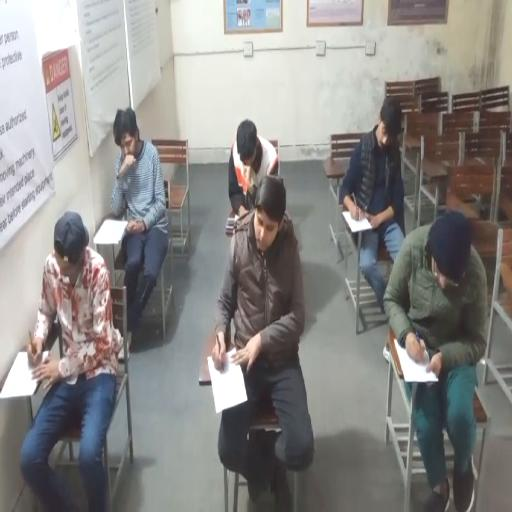paper: (0, 345, 48, 398), (206, 350, 246, 412), (94, 218, 128, 282), (393, 338, 439, 384), (342, 207, 376, 232)
